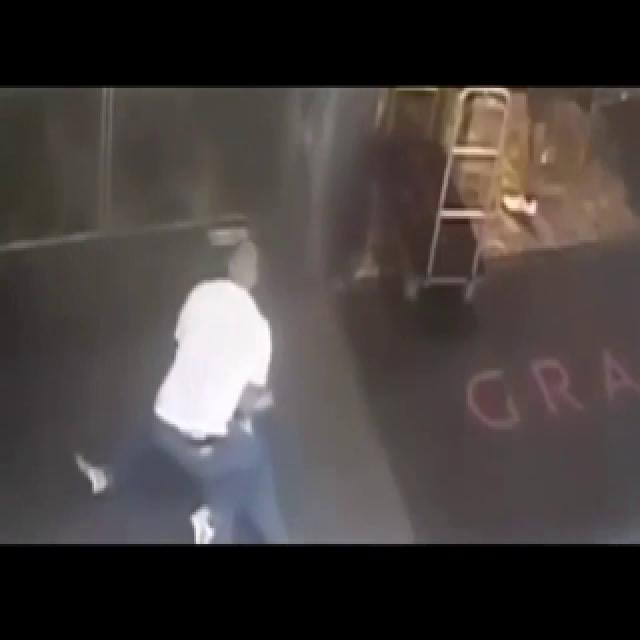arrest: (79, 138, 298, 573)
